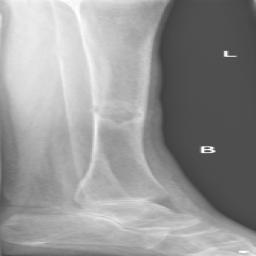cancer: (92, 100, 152, 130)
